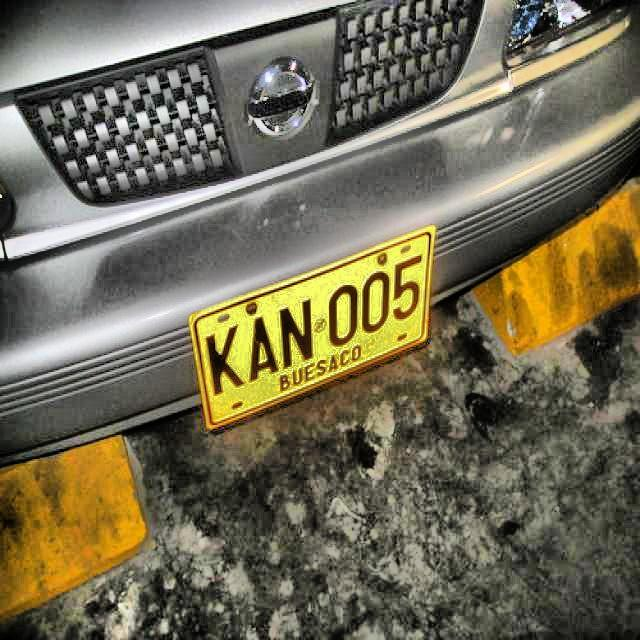plate: (193, 230, 431, 425)
